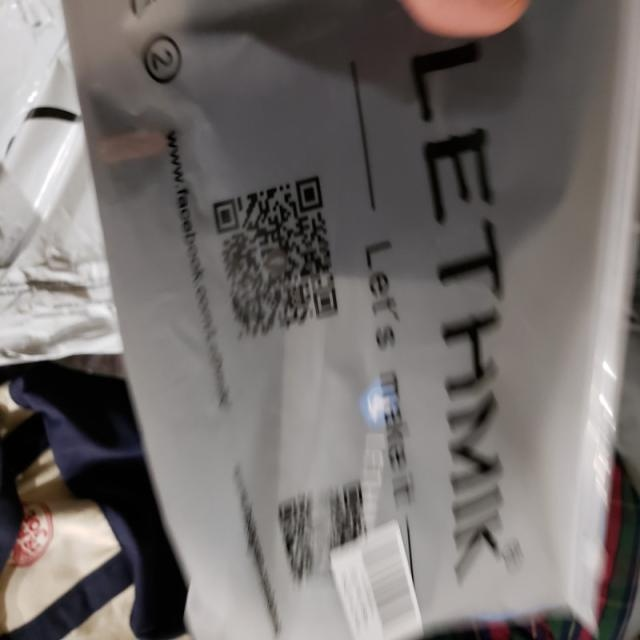qr-code: (202, 160, 352, 360), (269, 465, 376, 606)
